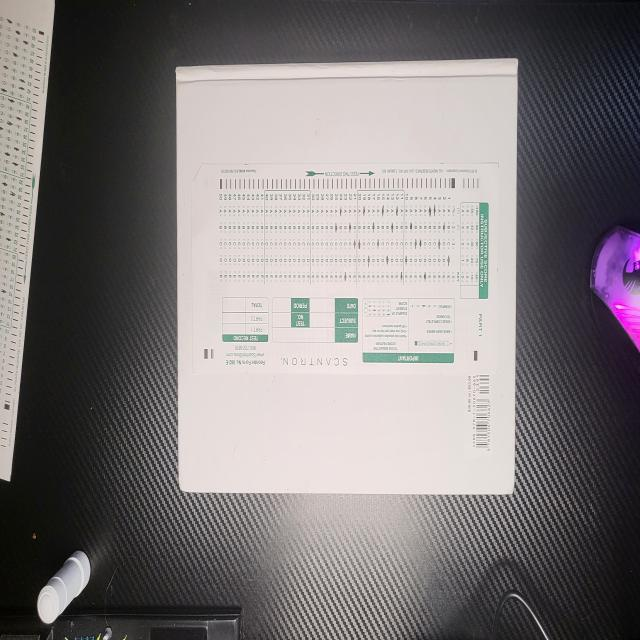scantron: (191, 163, 498, 376)
